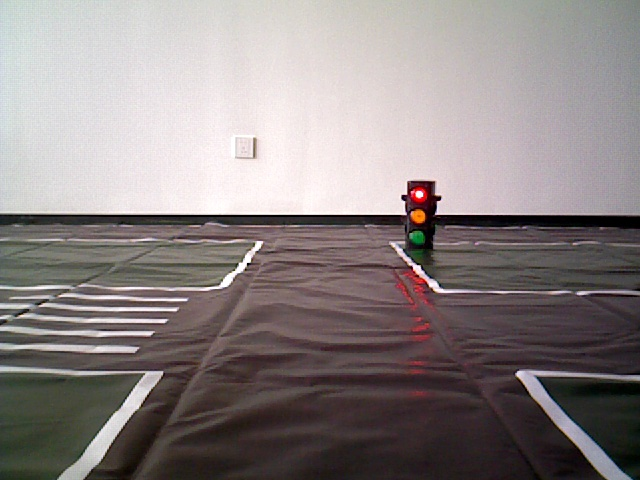red: (405, 182, 427, 255)
